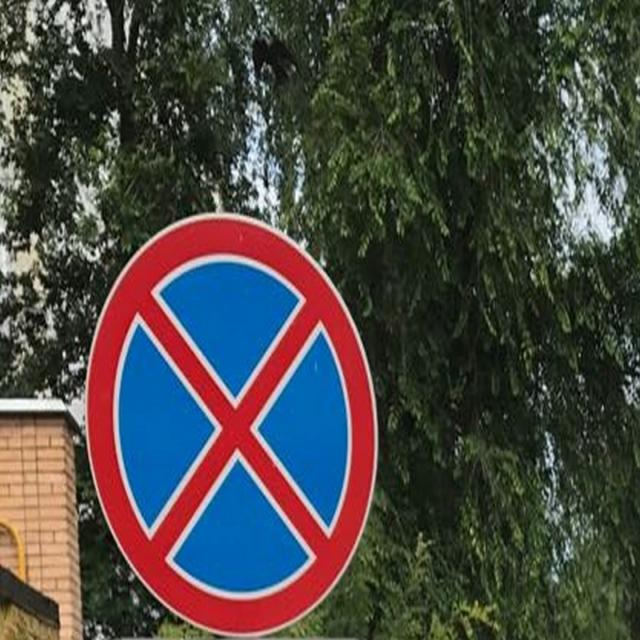no stopping: (82, 206, 382, 638)
